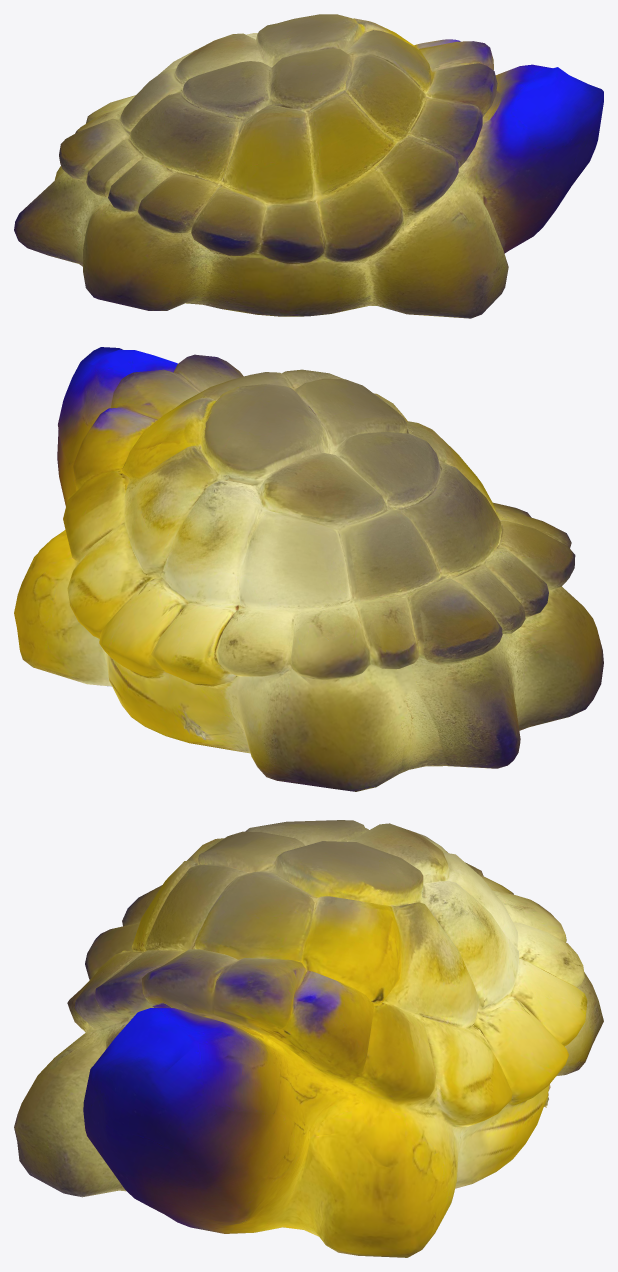
Rendered from turtle.glb.
3 renders of one model, top to bottom at view 1: azimuth 30°, elevation 25°; view 2: azimuth 150°, elevation 25°; view 3: azimuth 270°, elevation 25°, orthographic. The views are drawn at different scales.
Parts seen in each view (by area): view 1: 3.TURTLE_LOW; view 2: 3.TURTLE_LOW; view 3: 3.TURTLE_LOW.
Part boxes in pixels (x1,y1,x2,y2): 3.TURTLE_LOW: (14, 14, 603, 318); 3.TURTLE_LOW: (14, 347, 603, 791); 3.TURTLE_LOW: (14, 820, 603, 1257).
Size of the model in its own units: 1 by 0.4612 by 0.819.
1 material, 1 textured.
